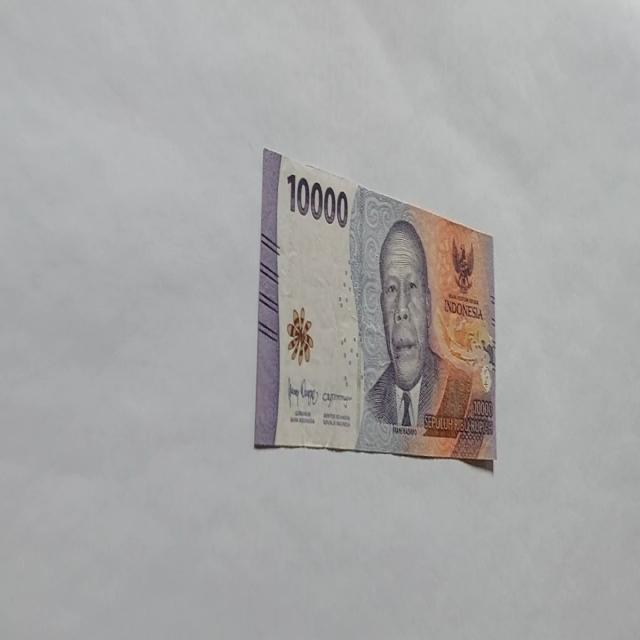sepuluh ribu rupiah: (252, 146, 498, 467), (354, 215, 481, 457)
